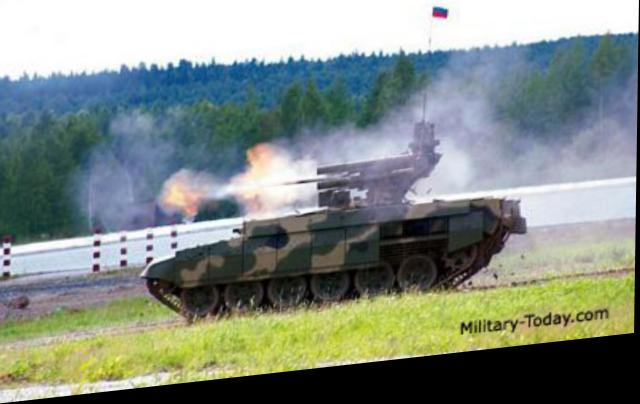tank: (136, 142, 536, 337)
